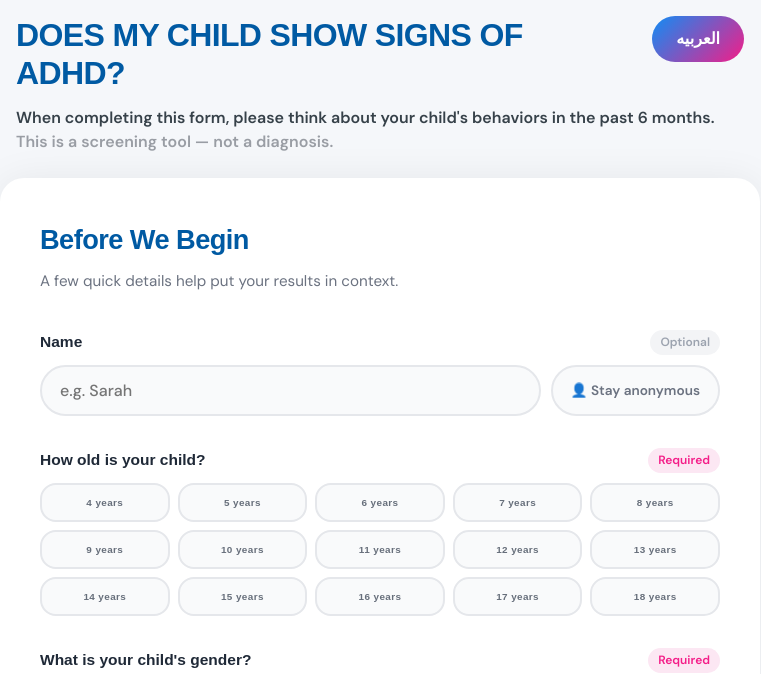
it: Quiz — Intake screen › Name field is disabled when "Stay anonymous" is toggled on
The image size is (761, 674).
Button text in Quiz.jsx: "👤 Stay anonymous"
Click the button "👤 Stay anonymous" at (635, 390), box [551, 365, 720, 416]
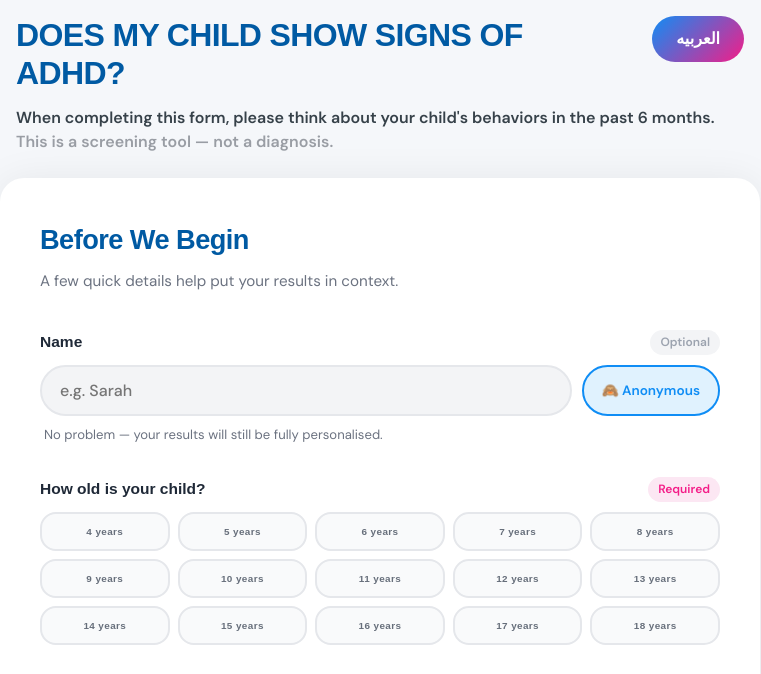
Now the field with placeholder "e.g. Sarah" is disabled, box [40, 365, 572, 416]
